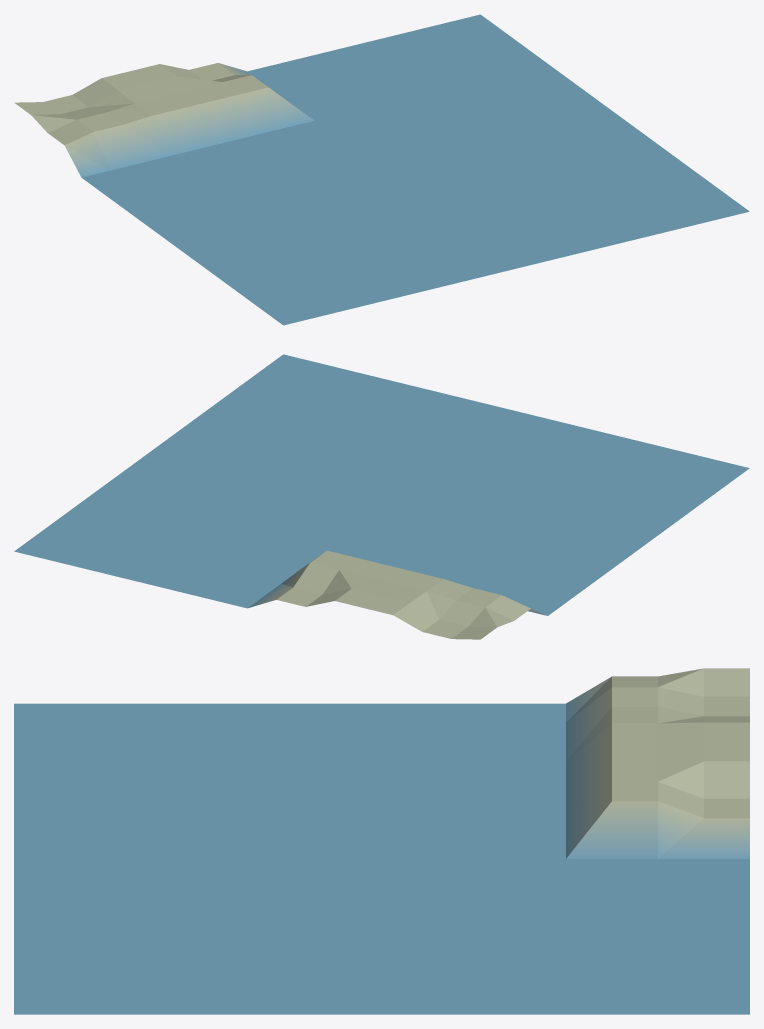
3 views of the same model, one above another, from view 1: azimuth 30°, elevation 25°; view 2: azimuth 150°, elevation 25°; view 3: azimuth 270°, elevation 25° (orthographic). The views are drawn at different scales.
Bounding box in the file's own units: 32 × 1.89 × 32.
